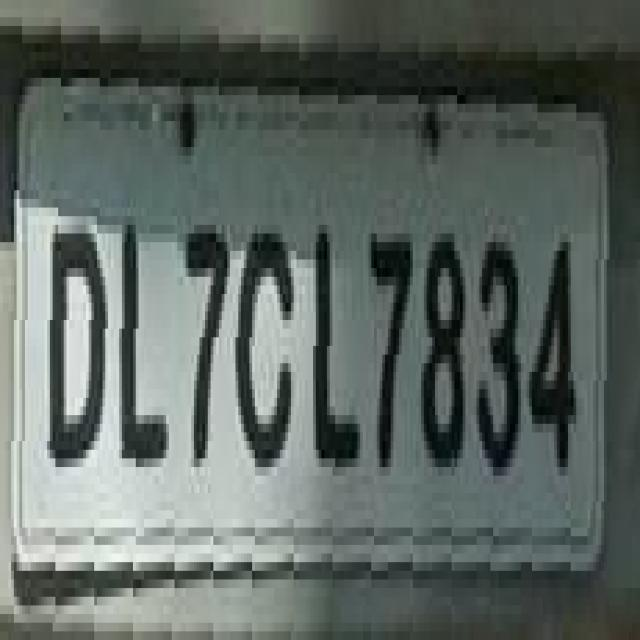plate: (0, 17, 623, 614)
